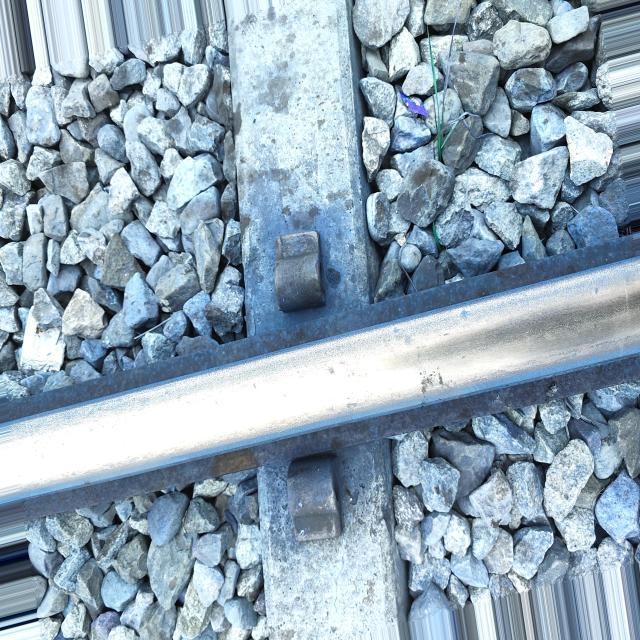Missing Fastener: (265, 458, 362, 573), (258, 223, 337, 321)
